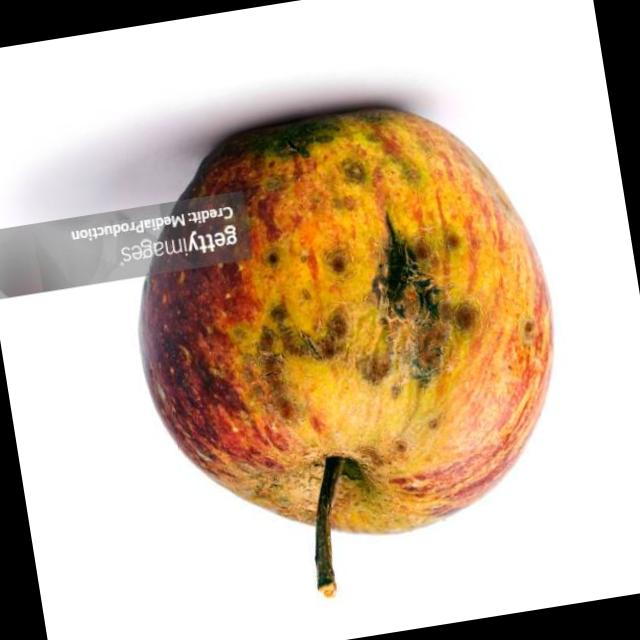apple_fruit: (98, 74, 562, 626)
